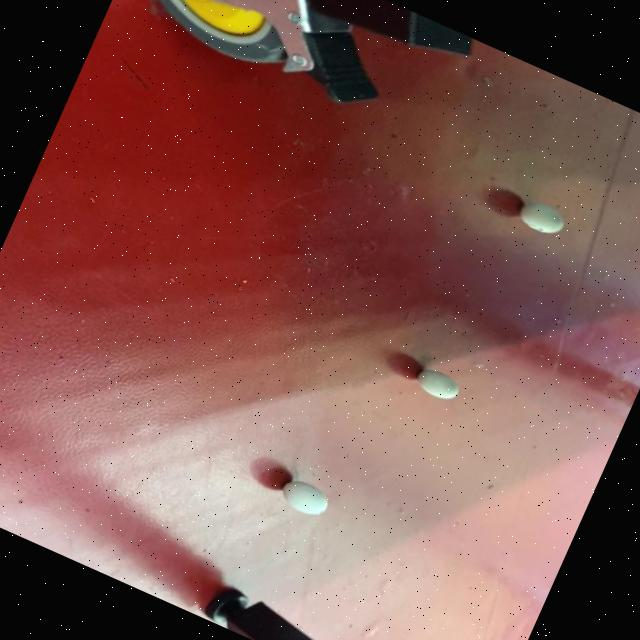ping-pong-ball: (511, 190, 574, 243), (274, 471, 336, 522), (410, 359, 468, 407)
